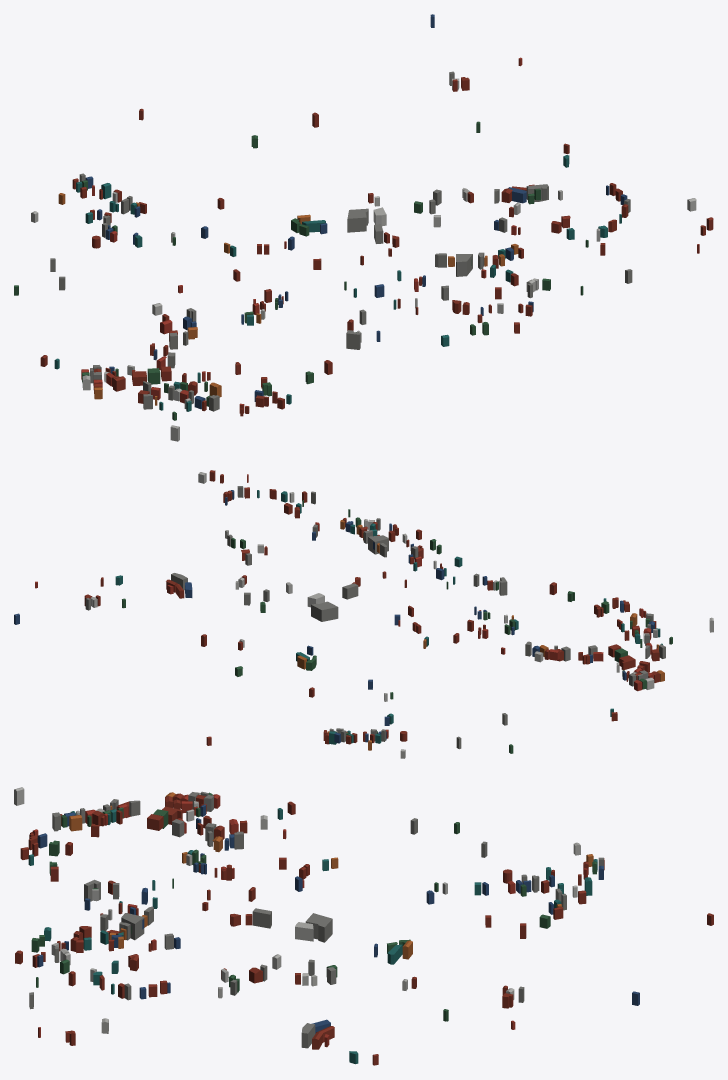
Rendered from near-15-27357-14867.5991e5db.glb.
The picture shows the model from 3 angles, top to bottom: view 1: azimuth 30°, elevation 25°; view 2: azimuth 150°, elevation 25°; view 3: azimuth 270°, elevation 25°; orthographic projection. The views are drawn at different scales.
Size of the model in its own units: 1141 by 198 by 1068.
